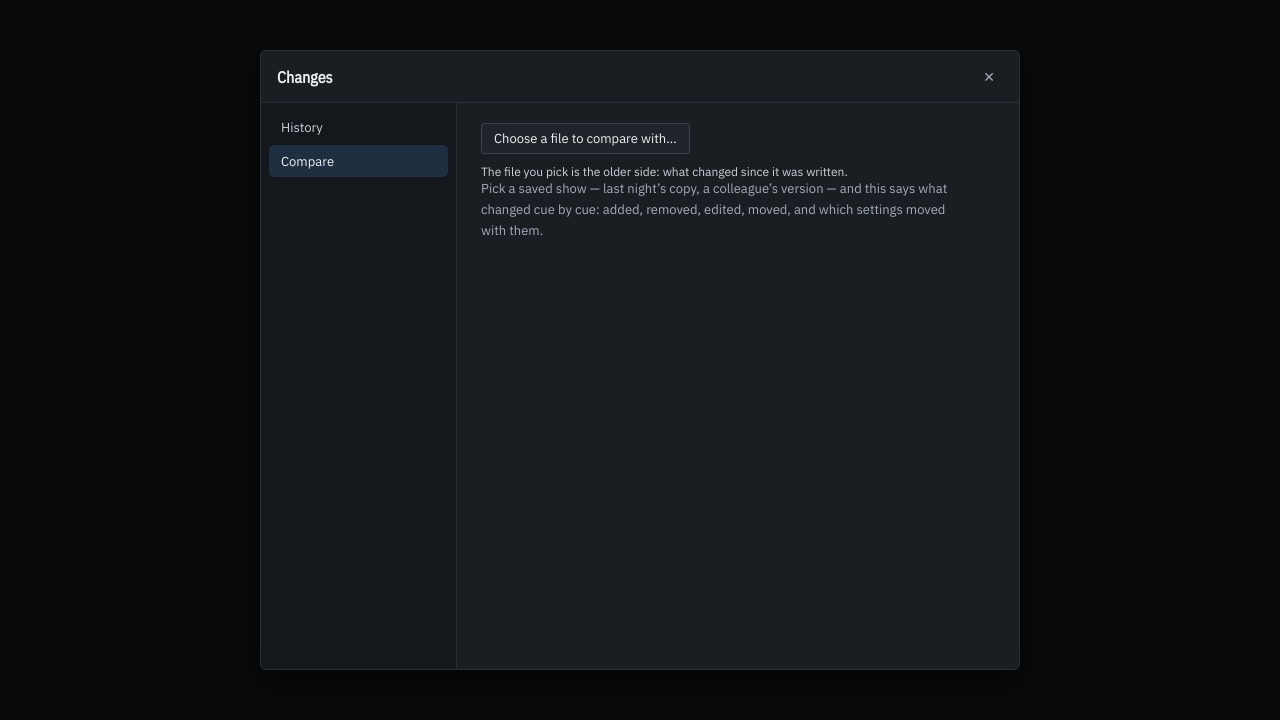
Test case: comparing with another file › stops showing an answer that belongs to the show it was made against
Click the button with class "changes-choose" at (585, 138), box x1=481 y1=123 x2=690 y2=154
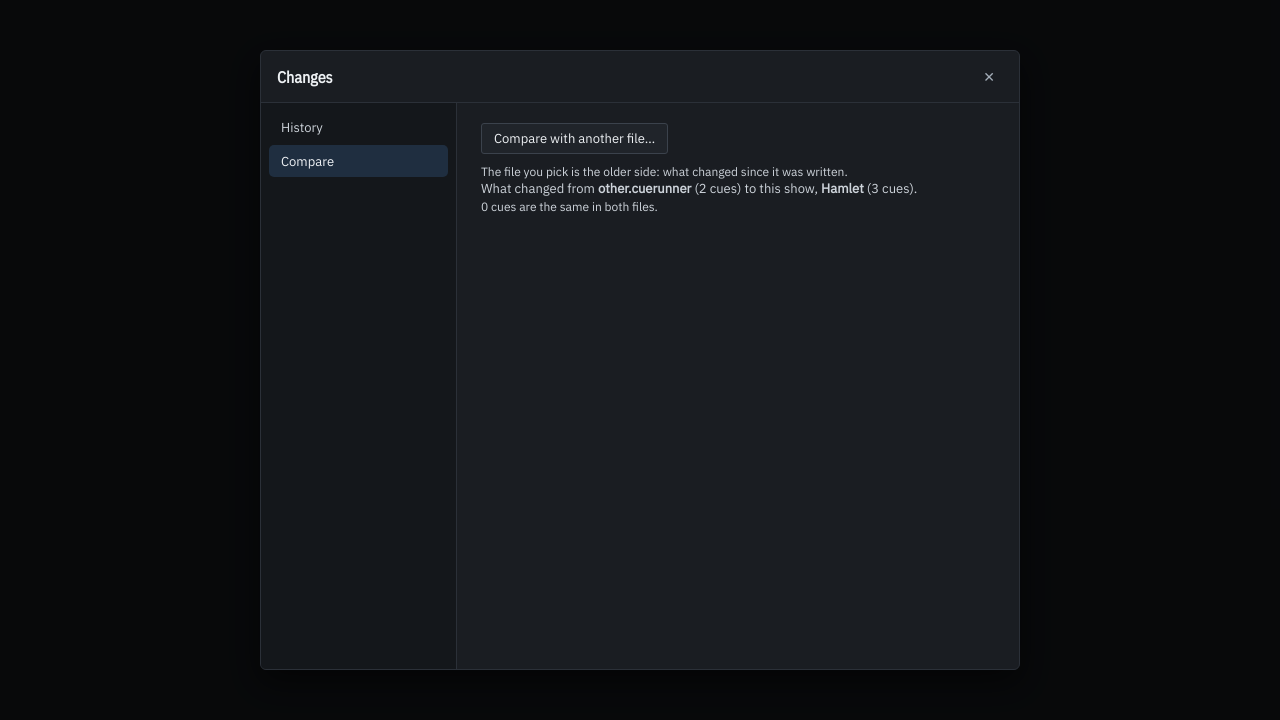
Result: the element with class "changes-diff" is shown at x1=481 y1=180 x2=917 y2=214
